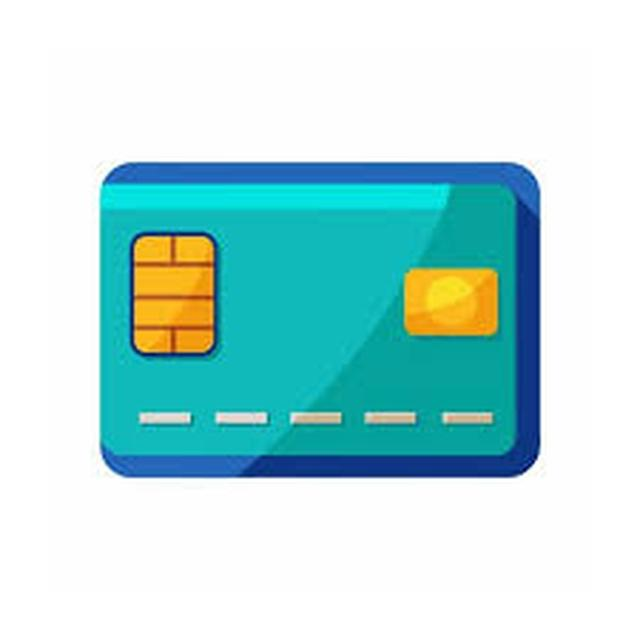box: (85, 136, 561, 514)
